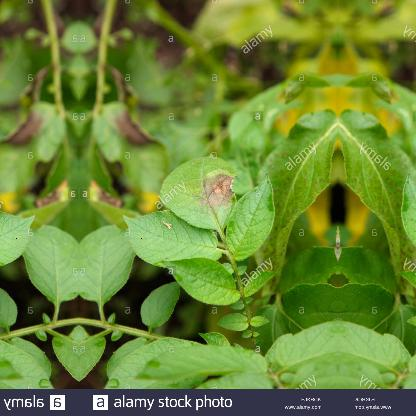Late-Blight: (86, 117, 298, 310), (0, 117, 70, 310)
